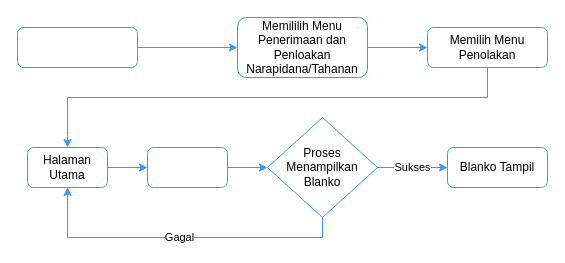
This 565x263 diagram has some shape labels left out. The shapes that lost their labels are listed below. From the top down, each one's centre as x and y in pixels, then its label:
At [77,47]: "Memilih Menu Registrasi".
At [187,167]: "Blanko BA".
